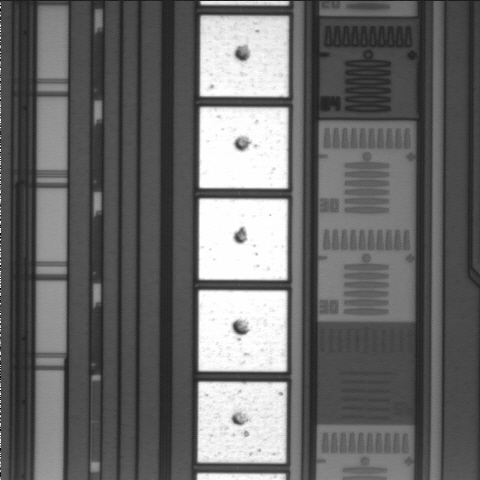pad: (199, 107, 288, 189), (198, 290, 287, 372), (200, 16, 289, 97), (199, 199, 288, 280), (198, 382, 287, 463)
